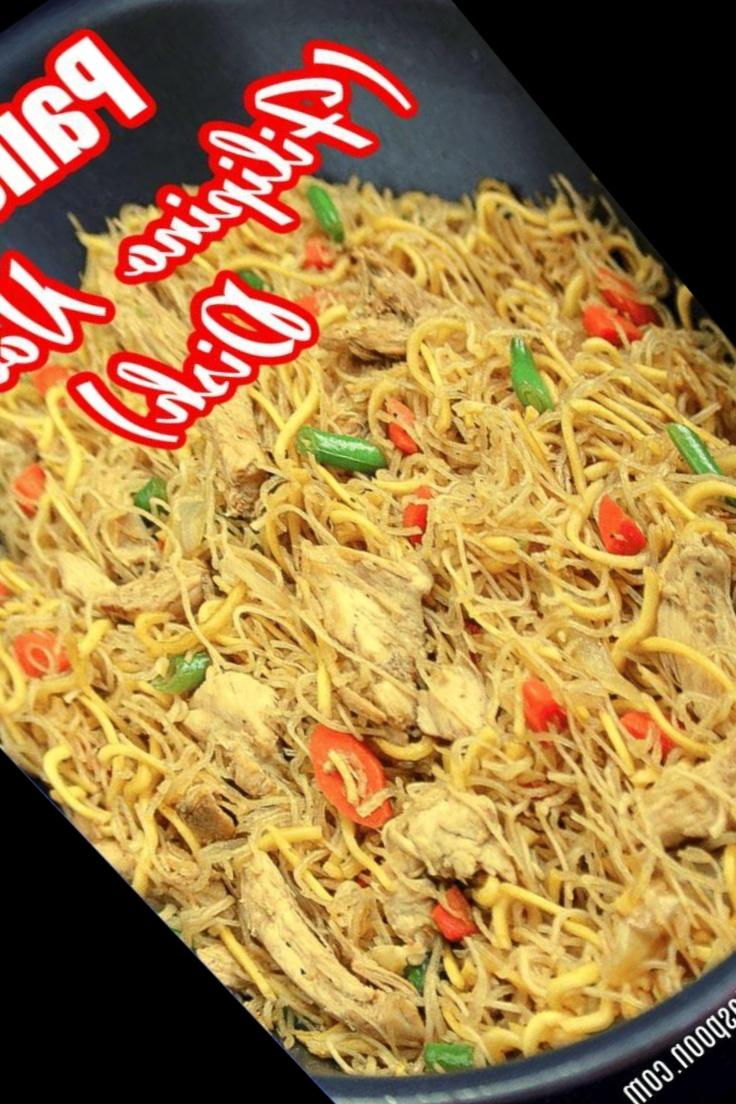pancit bihon: (0, 178, 735, 1067)
